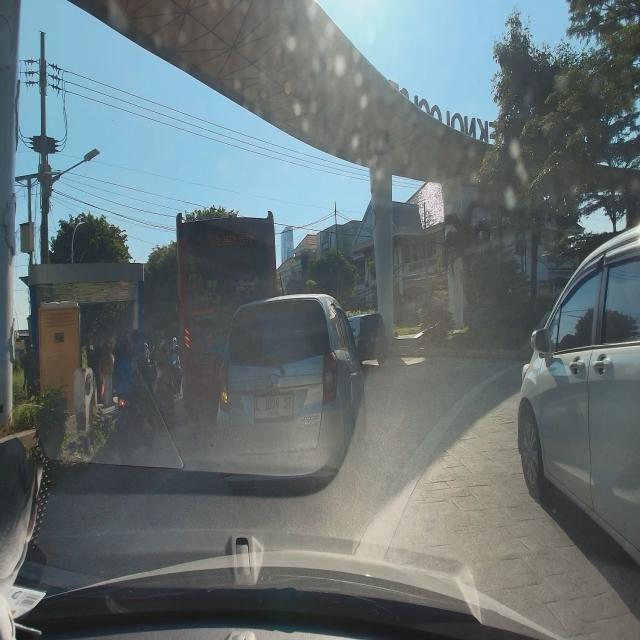bus: (171, 208, 284, 422)
car: (516, 211, 640, 570), (214, 287, 370, 485), (346, 307, 392, 372)
license-plate: (252, 392, 295, 422), (369, 334, 382, 344)
